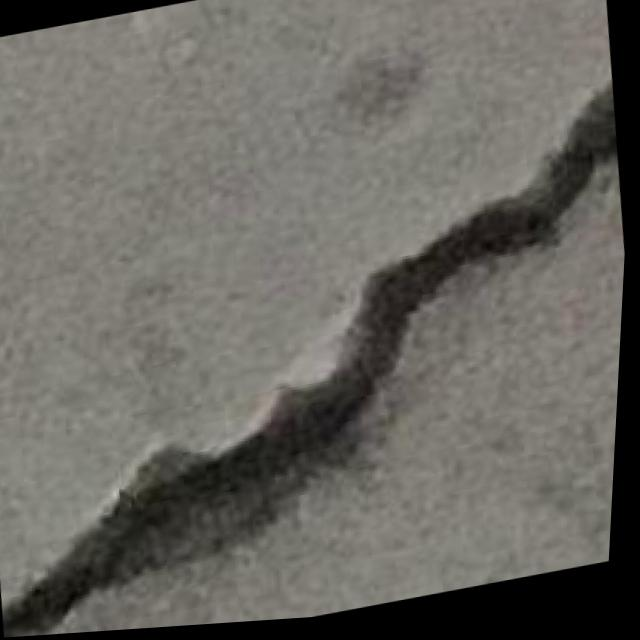Crack: (0, 100, 635, 640)
